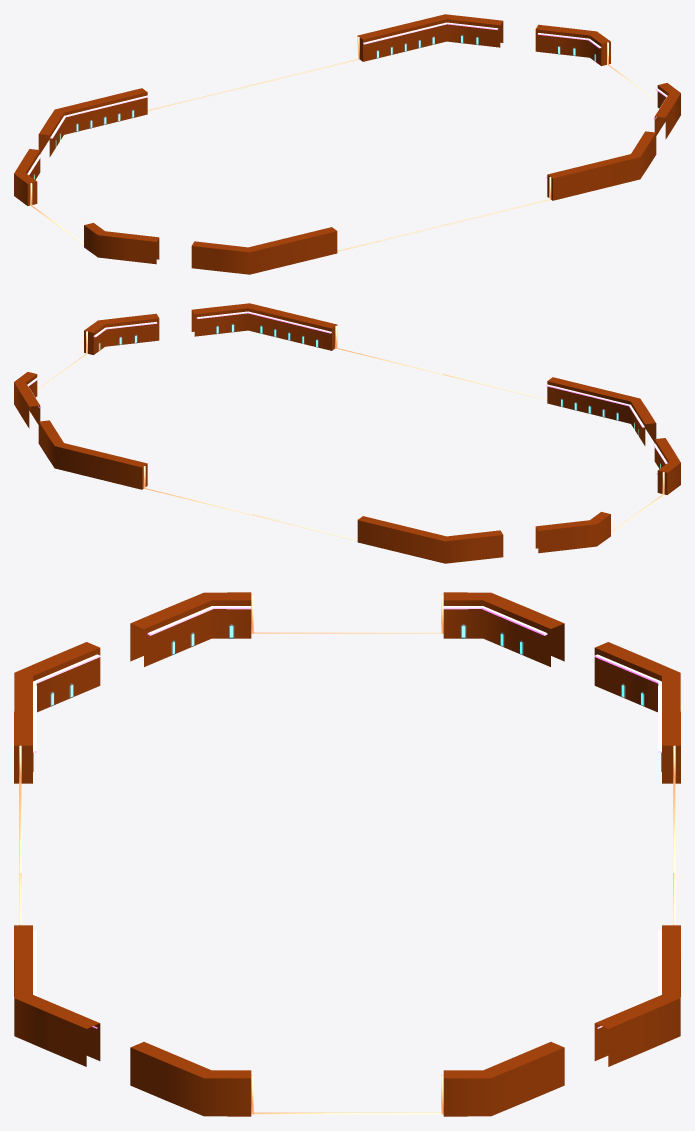
The model's file is PH_mesh_SpaceShip_Walls2.fbx.
The picture shows the model from 3 angles, top to bottom: view 1: azimuth 30°, elevation 25°; view 2: azimuth 150°, elevation 25°; view 3: azimuth 270°, elevation 25°; orthographic projection. The views are drawn at different scales.
Parts seen in each view (by area): view 1: mesh_spaceship_DM_Wall, CutedFloorBase.017, mesh_Spaceship_LightLine, mesh_Spaceship_LightsMerged; view 2: mesh_spaceship_DM_Wall, CutedFloorBase.017, mesh_Spaceship_LightLine, mesh_Spaceship_LightsMerged; view 3: mesh_spaceship_DM_Wall, mesh_Spaceship_LightLine, CutedFloorBase.017, mesh_Spaceship_LightsMerged.
Part boxes in pixels (x1,y1,x2,y2): mesh_spaceship_DM_Wall: [14, 14, 680, 274]; CutedFloorBase.017: [30, 36, 664, 251]; mesh_Spaceship_LightLine: [27, 22, 667, 185]; mesh_Spaceship_LightsMerged: [33, 35, 596, 179]; mesh_spaceship_DM_Wall: [14, 303, 680, 563]; CutedFloorBase.017: [30, 325, 664, 540]; mesh_Spaceship_LightLine: [27, 311, 667, 474]; mesh_Spaceship_LightsMerged: [98, 324, 661, 468]; mesh_spaceship_DM_Wall: [14, 592, 680, 1116]; mesh_Spaceship_LightLine: [33, 606, 661, 1028]; CutedFloorBase.017: [19, 594, 675, 1114]; mesh_Spaceship_LightsMerged: [33, 624, 661, 771].
Bounding box in the file's own units: 59.41 × 2.18 × 34.46.
